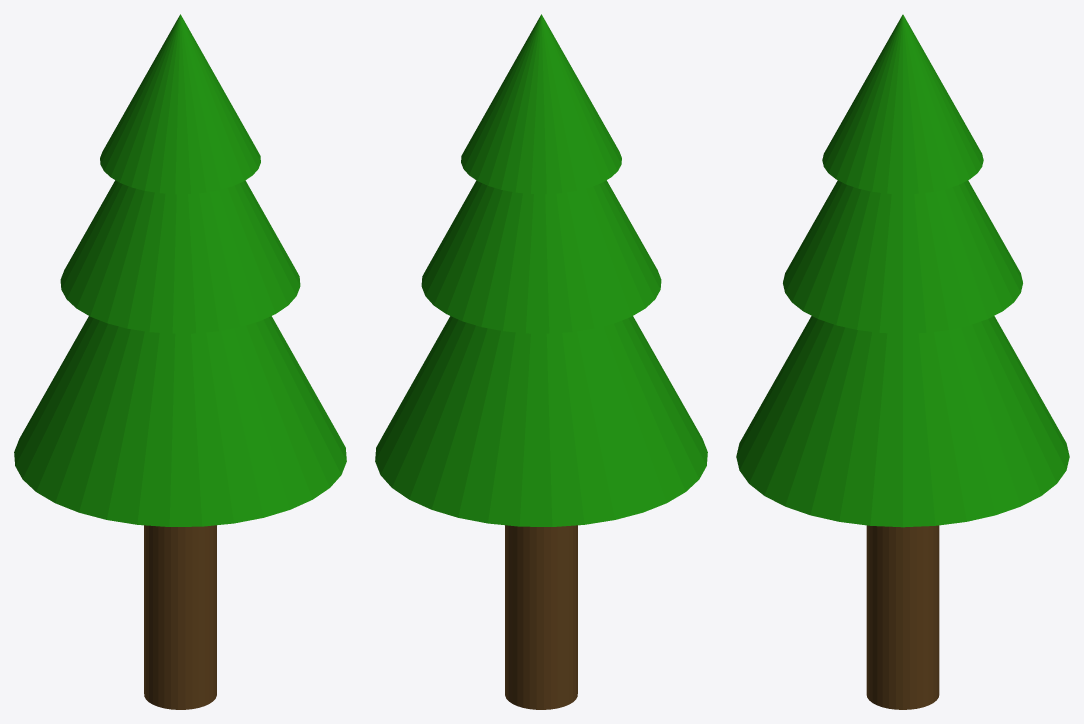
File: arbol.fbx
3 views of the same model, side by side, from view 1: azimuth 30°, elevation 25°; view 2: azimuth 150°, elevation 25°; view 3: azimuth 270°, elevation 25° (orthographic).
Parts seen in each view (by area): view 1: arbol, troncoarbol; view 2: arbol, troncoarbol; view 3: arbol, troncoarbol.
Boxes of the visible parts, x1,y1,x2,y2 form: arbol: (14,14,346,526); troncoarbol: (144,525,216,709); arbol: (375,14,707,526); troncoarbol: (505,525,577,709); arbol: (736,14,1069,527); troncoarbol: (866,525,939,709).
Size of the model in its own units: 322 by 725 by 322.
2 materials, 2 textured.
